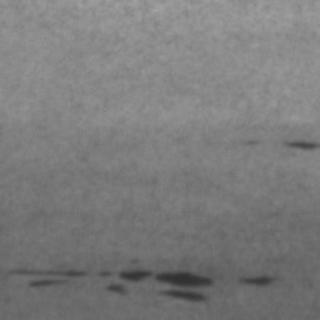inclusion: (0, 262, 216, 302), (234, 266, 276, 290), (266, 132, 318, 150)
